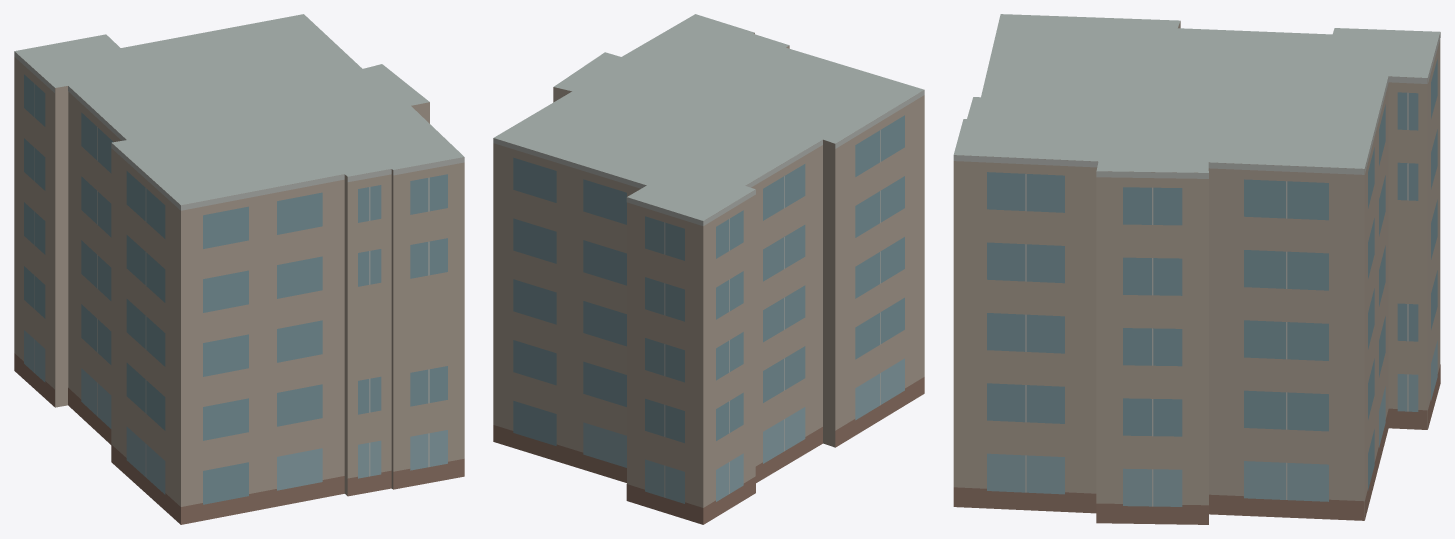
Rendered from survey-upis-32593892.glb.
3 views of the same model, side by side, from view 1: azimuth 30°, elevation 25°; view 2: azimuth 150°, elevation 25°; view 3: azimuth 270°, elevation 25° (orthographic). The views are drawn at different scales.
Visible parts, largest first — view 1: survey-upis-32593892.tmp; view 2: survey-upis-32593892.tmp; view 3: survey-upis-32593892.tmp.
Part boxes in pixels (x1,y1,x2,y2): survey-upis-32593892.tmp: (14, 14, 464, 524); survey-upis-32593892.tmp: (493, 14, 924, 524); survey-upis-32593892.tmp: (953, 14, 1440, 524).
Bounding box in the file's own units: 13.76 × 14.2 × 17.81.
